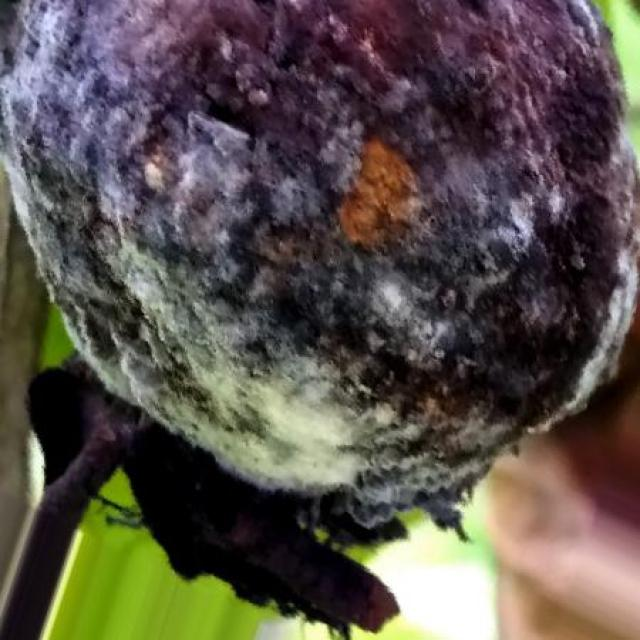Phytopthora: (0, 0, 638, 514)
